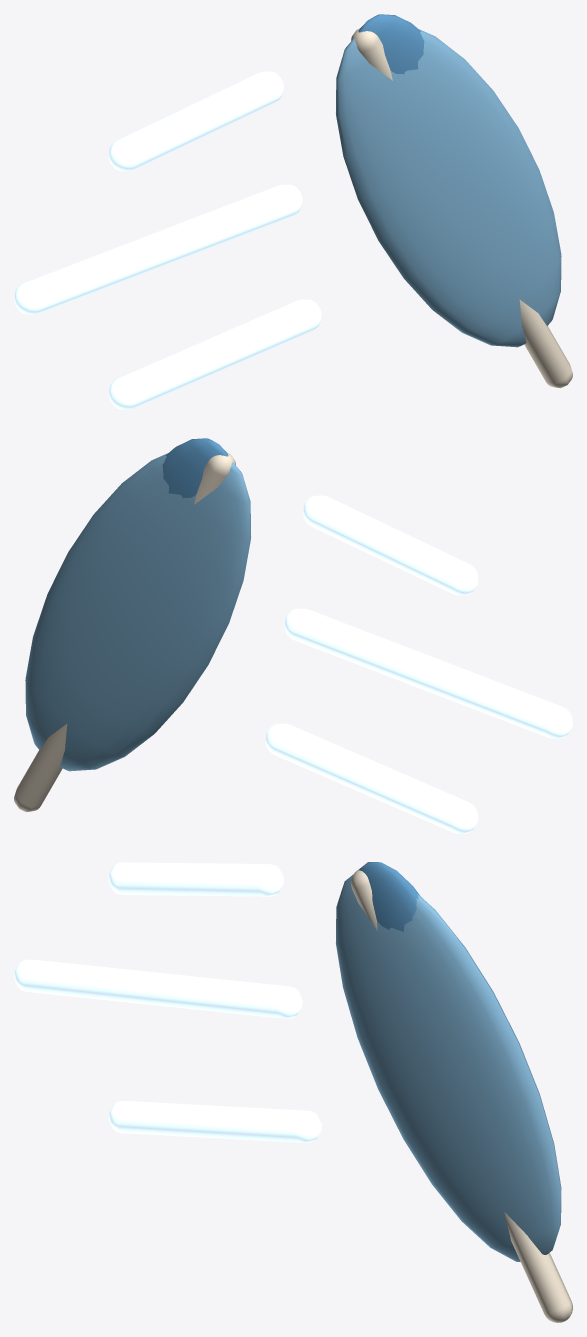
File: dash_feather.glb
3 views of the same model, one above another, from view 1: azimuth 30°, elevation 25°; view 2: azimuth 150°, elevation 25°; view 3: azimuth 330°, elevation 25° (orthographic).
Visible parts, largest first — view 1: Feather; view 2: Feather; view 3: Feather.
Part boxes in pixels (x1,y1,x2,y2): Feather: [14, 14, 572, 409]; Feather: [14, 438, 572, 833]; Feather: [14, 862, 572, 1322].
Size of the model in its own units: 0.586 by 0.4195 by 0.04.
